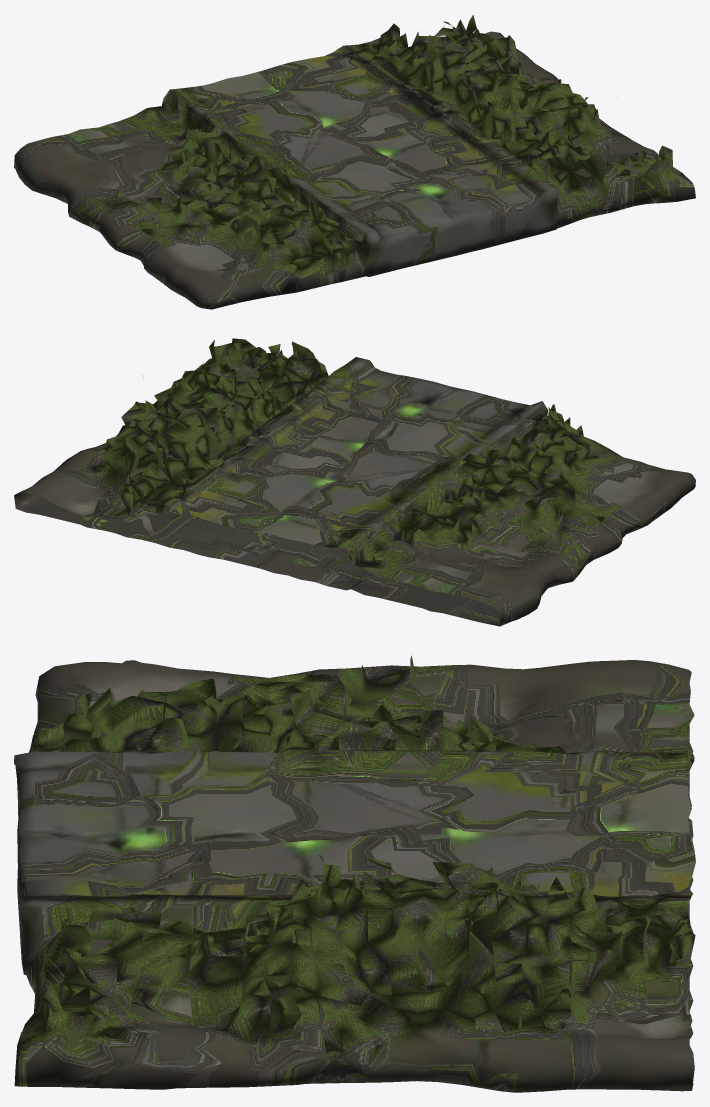
Rendered from path-slab.glb.
3 renders of one model, top to bottom at view 1: azimuth 30°, elevation 25°; view 2: azimuth 150°, elevation 25°; view 3: azimuth 270°, elevation 25°, orthographic. The views are drawn at different scales.
Bounding box in the file's own units: 1.53 × 0.2716 × 1.08.
Materials: 1 (1 with a texture image).
